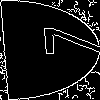Z: (25, 25, 100, 57)
